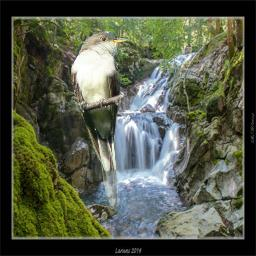Cuckoo: (71, 30, 130, 211)
